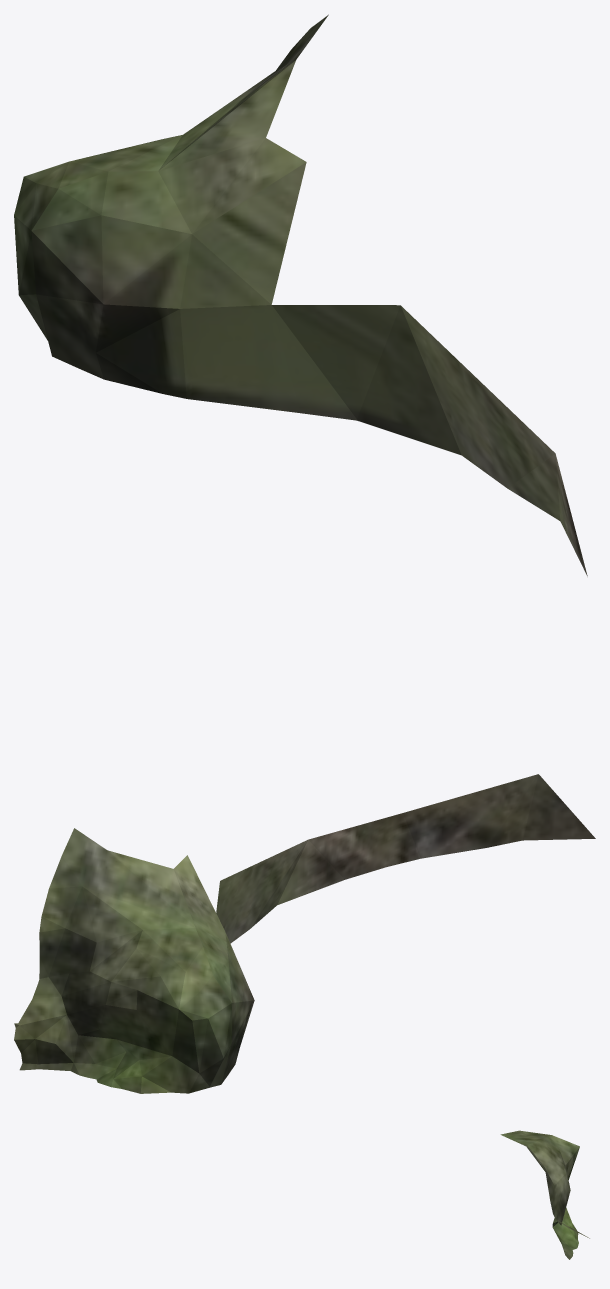
3 renders of one model, top to bottom at view 1: azimuth 30°, elevation 25°; view 2: azimuth 150°, elevation 25°; view 3: azimuth 270°, elevation 25°, orthographic. The views are drawn at different scales.
Bounding box in the file's own units: 6.46 × 6.4 × 22.18.
1 material, 1 textured.
